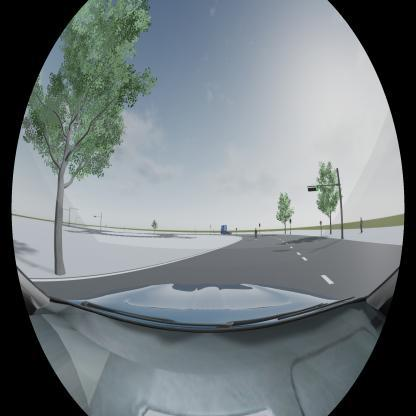Green Light: (308, 187, 318, 192), (290, 218, 292, 224)
Red Light: (259, 223, 260, 226)
